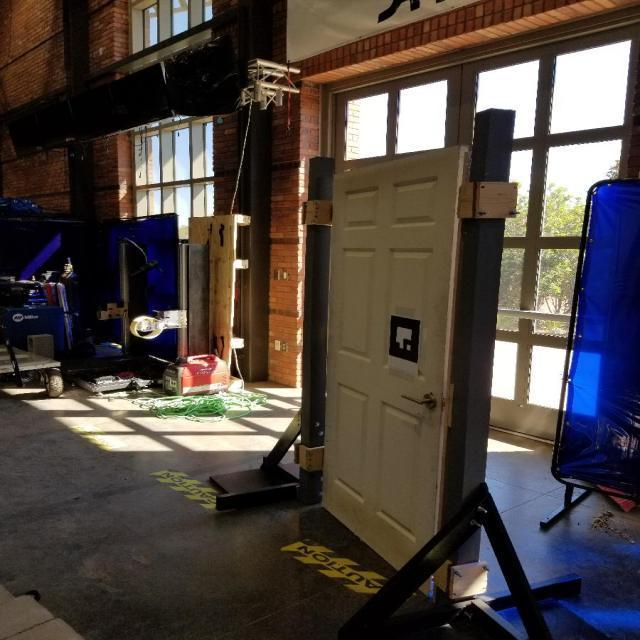door: (318, 141, 468, 601), (398, 388, 438, 412)
